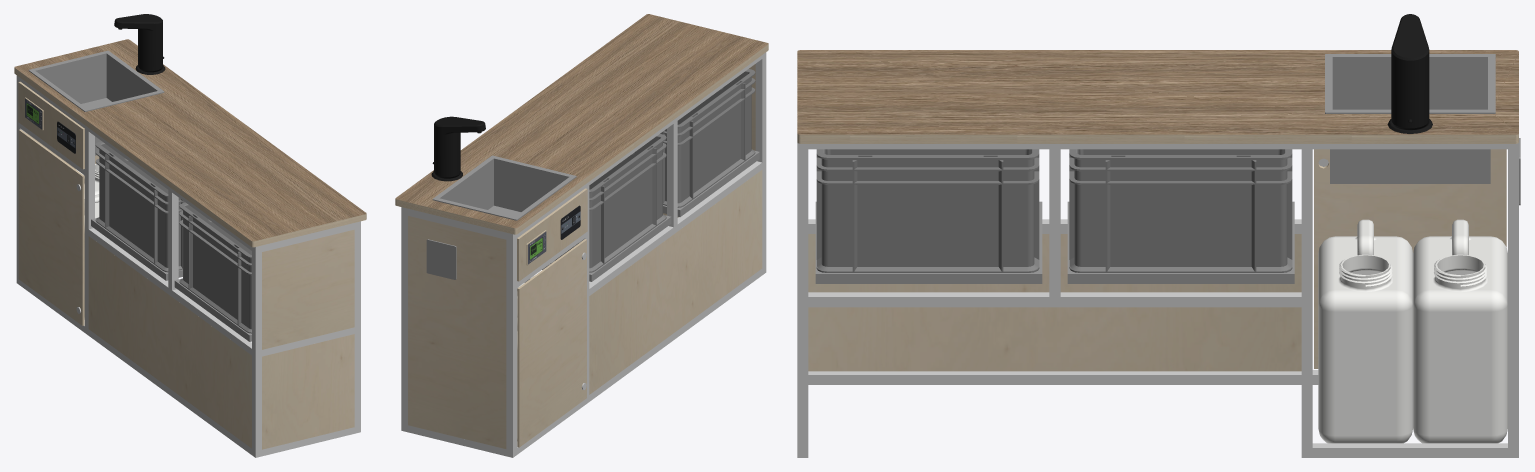
File: aluminum-side-cabinet-birch.glb
3 renders of one model, left to right at view 1: azimuth 30°, elevation 25°; view 2: azimuth 150°, elevation 25°; view 3: azimuth 270°, elevation 25°, orthographic. The views are drawn at different scales.
Parts seen in each view (by area): view 1: Oak top1294.8x360x18 - compact sink and centered pump_0, ボディ52_1, side_0, Tank door346x447x6.5 - reveal2mm_1, ボディ53_1, ボディ54_1, h235_0, h235_0.001, Owner-approved compact sink305.9x249.85x145.35_0, Upper control fascia - monitor94x57 remote73x43_1, ボディ1 - existing pump_0, ボディ48_0 (+2 smaller); view 2: Oak top1294.8x360x18 - compact sink and centered pump_0, ボディ49_1, ボディ52_1, side_0, Tank door346x447x6.5 - reveal2mm_1, h235_0.001, h235_0, Owner-approved compact sink305.9x249.85x145.35_0, Upper control fascia - monitor94x57 remote73x43_1, ボディ1 - existing pump_0, Kitchen shower87x95 - left side panel_0, ボディ39_0 (+2 smaller); view 3: Oak top1294.8x360x18 - compact sink and centered pump_0, ボディ52_1, side_0, h235_0.001, h235_0, ボディ1_0, ボディ1_0.001, Owner-approved compact sink305.9x249.85x145.35_0, Tank door346x447x6.5 - reveal2mm_1, ボディ1 - existing pump_0, ボディ39_0, ボディ48_0.
Boxes of the visible parts, left/top/right/bottom form: Oak top1294.8x360x18 - compact sink and centered pump_0: left=14, top=39, right=366, bottom=247; ボディ52_1: left=88, top=236, right=251, bottom=448; side_0: left=16, top=75, right=360, bottom=457; Tank door346x447x6.5 - reveal2mm_1: left=18, top=130, right=82, bottom=325; ボディ53_1: left=262, top=229, right=354, bottom=349; ボディ54_1: left=262, top=334, right=354, bottom=449; h235_0: left=95, top=141, right=184, bottom=272; h235_0.001: left=179, top=202, right=251, bottom=333; Owner-approved compact sink305.9x249.85x145.35_0: left=28, top=50, right=164, bottom=155; Upper control fascia - monitor94x57 remote73x43_1: left=18, top=82, right=82, bottom=169; ボディ1 - existing pump_0: left=114, top=14, right=164, bottom=72; ボディ48_0: left=91, top=218, right=182, bottom=280; Oak top1294.8x360x18 - compact sink and centered pump_0: left=395, top=14, right=768, bottom=234; ボディ49_1: left=408, top=216, right=506, bottom=448; ボディ52_1: left=589, top=170, right=762, bottom=394; side_0: left=401, top=52, right=766, bottom=457; Tank door346x447x6.5 - reveal2mm_1: left=519, top=240, right=586, bottom=447; h235_0.001: left=660, top=69, right=755, bottom=207; h235_0: left=550, top=134, right=666, bottom=272; Owner-approved compact sink305.9x249.85x145.35_0: left=432, top=155, right=576, bottom=220; Upper control fascia - monitor94x57 remote73x43_1: left=519, top=189, right=587, bottom=281; ボディ1 - existing pump_0: left=432, top=116, right=485, bottom=178; Kitchen shower87x95 - left side panel_0: left=426, top=239, right=456, bottom=279; ボディ39_0: left=663, top=151, right=759, bottom=216; Oak top1294.8x360x18 - compact sink and centered pump_0: left=797, top=50, right=1518, bottom=143; ボディ52_1: left=808, top=234, right=1301, bottom=371; side_0: left=797, top=143, right=1518, bottom=457; h235_0.001: left=816, top=149, right=1039, bottom=272; h235_0: left=1069, top=149, right=1292, bottom=272; ボディ1_0: left=1413, top=219, right=1507, bottom=443; ボディ1_0.001: left=1318, top=219, right=1412, bottom=443; Owner-approved compact sink305.9x249.85x145.35_0: left=1325, top=54, right=1495, bottom=183; Tank door346x447x6.5 - reveal2mm_1: left=1314, top=149, right=1506, bottom=368; ボディ1 - existing pump_0: left=1391, top=14, right=1429, bottom=129; ボディ39_0: left=815, top=201, right=1042, bottom=283; ボディ48_0: left=1067, top=201, right=1294, bottom=283.
Bounding box in the file's own units: 0.36 × 0.8186 × 1.3.
19 materials, 4 textured.
